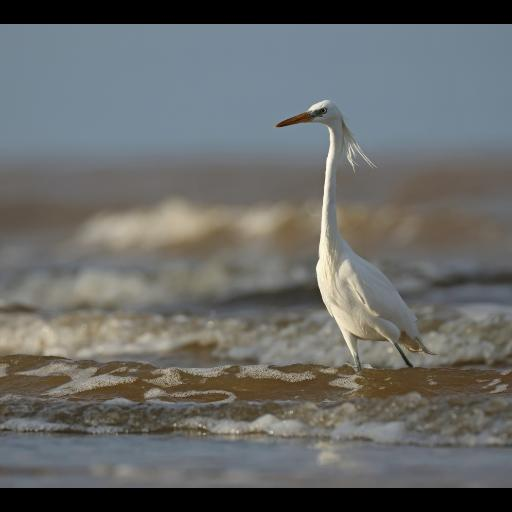chinese_egret: (272, 97, 440, 375)
